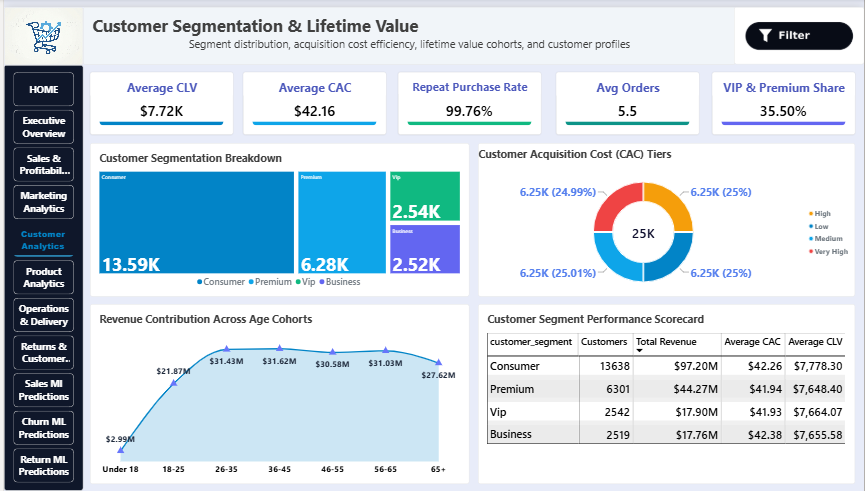

What the dashboard file says about the page in this screenshot:
{"tool":"powerbi","page":{"name":"Customer Analytics","canvas":[1920,1080],"ordinal":4},"visuals":[{"type":"pageNavigator","box":[0,129.6,177.1,950.4],"z":0},{"type":"image","box":[0,0,177.1,129.6],"z":1000},{"type":"textbox","box":[177.5,0,1457.5,129.1],"z":2000},{"type":"treemap","title":"Customer Segmentation Breakdown","fields":{"Group":["customer_master_cleaned.customer_segment"],"Values":["Dim_Date.Total Customers"]},"box":[192.2,304.6,846.7,343.4],"z":3000},{"type":"donutChart","title":"Customer Acquisition Cost (CAC) Tiers","fields":{"Category":["customer_master_cleaned.acquisition_cost_group"],"Y":["CountNonNull(customer_master_cleaned.customer_id)"]},"box":[1058.4,304.6,842.4,343.4],"z":4000},{"type":"areaChart","title":"Revenue Contribution Across Age Cohorts","fields":{"Category":["Dim_Age.age_group"],"Y":["Dim_Date.Total Net Sales"]},"box":[192.2,663.1,846.7,401.8],"z":5000},{"type":"pivotTable","title":" Customer Segment Performance Scorecard","fields":{"Rows":["customer_master_cleaned.customer_segment"],"Values":["Count(customer_master_cleaned.customer_id)","Dim_Date.Total Revenue","customer_master_cleaned.Average CAC","customer_master_cleaned.Average CLV"]},"box":[1058.4,663.1,842.4,401.8],"z":6000},{"type":"cardVisual","title":"Repeat Purchase Rate","fields":{"Data":["customer_master_cleaned.Repeat Purchase Rate %"]},"box":[879.1,144.7,319.7,140.4],"z":7000},{"type":"cardVisual","title":"Average CLV","fields":{"Data":["customer_master_cleaned.Average CLV"]},"box":[192.2,144.7,319.7,140.4],"z":8000},{"type":"cardVisual","title":"Avg Orders","fields":{"Data":["customer_master_cleaned.Average Orders per Customer"]},"box":[1233.4,144.7,319.7,140.4],"z":9000},{"type":"cardVisual","title":"\tAverage CAC","fields":{"Data":["customer_master_cleaned.Average CAC"]},"box":[533.5,144.7,319.7,140.4],"z":10000},{"type":"cardVisual","title":"VIP & Premium Share","fields":{"Data":["customer_master_cleaned.VIP and Premium Share %"]},"box":[1581.1,144.7,319.7,140.4],"z":11000},{"type":"image","title":"filter icon","box":[1629.3,0,290.7,128.5],"z":12000}]}

Visuals, with their boxes on the page's 1920x1080 design canvas (x1, y1, x2, y2). These are canvas units, not pixel positions in the 865x491 screenshot, which may show the page scaled, cropped or inside an application window:
pageNavigator: 0:130:177:1080
image: 0:0:177:130
textbox: 178:0:1635:129
"Customer Segmentation Breakdown" treemap: 192:305:1039:648
"Customer Acquisition Cost (CAC) Tiers" donutChart: 1058:305:1901:648
"Revenue Contribution Across Age Cohorts" areaChart: 192:663:1039:1065
" Customer Segment Performance Scorecard" pivotTable: 1058:663:1901:1065
"Repeat Purchase Rate" cardVisual: 879:145:1199:285
"Average CLV" cardVisual: 192:145:512:285
"Avg Orders" cardVisual: 1233:145:1553:285
"	Average CAC" cardVisual: 534:145:853:285
"VIP & Premium Share" cardVisual: 1581:145:1901:285
"filter icon" image: 1629:0:1920:128
